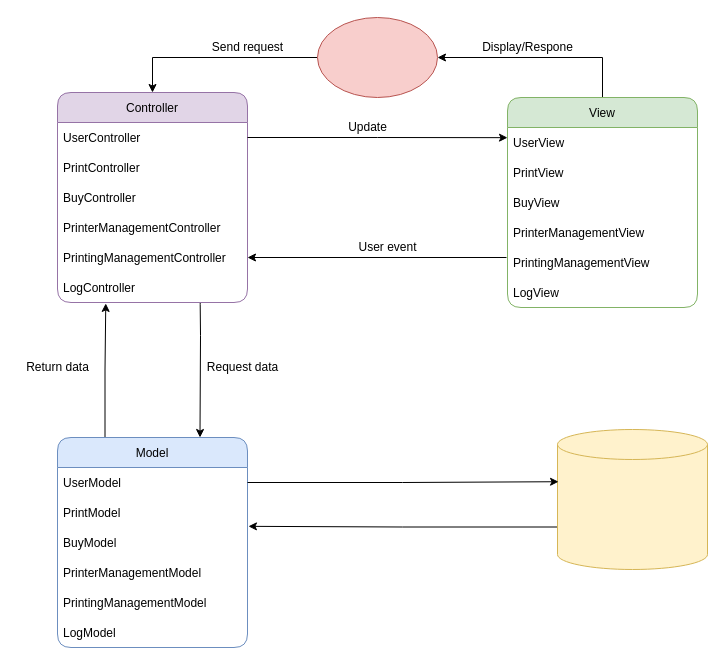
The diagram is 725 pixels wide and 665 high, and some of its shapes have lost their labels. The shapes that lost their labels are listed below. From the top down, each one's box as (x1, y1, x2, y2) in pixels, then its label:
(316, 16, 438, 98): Browser
(556, 428, 708, 570): Database
